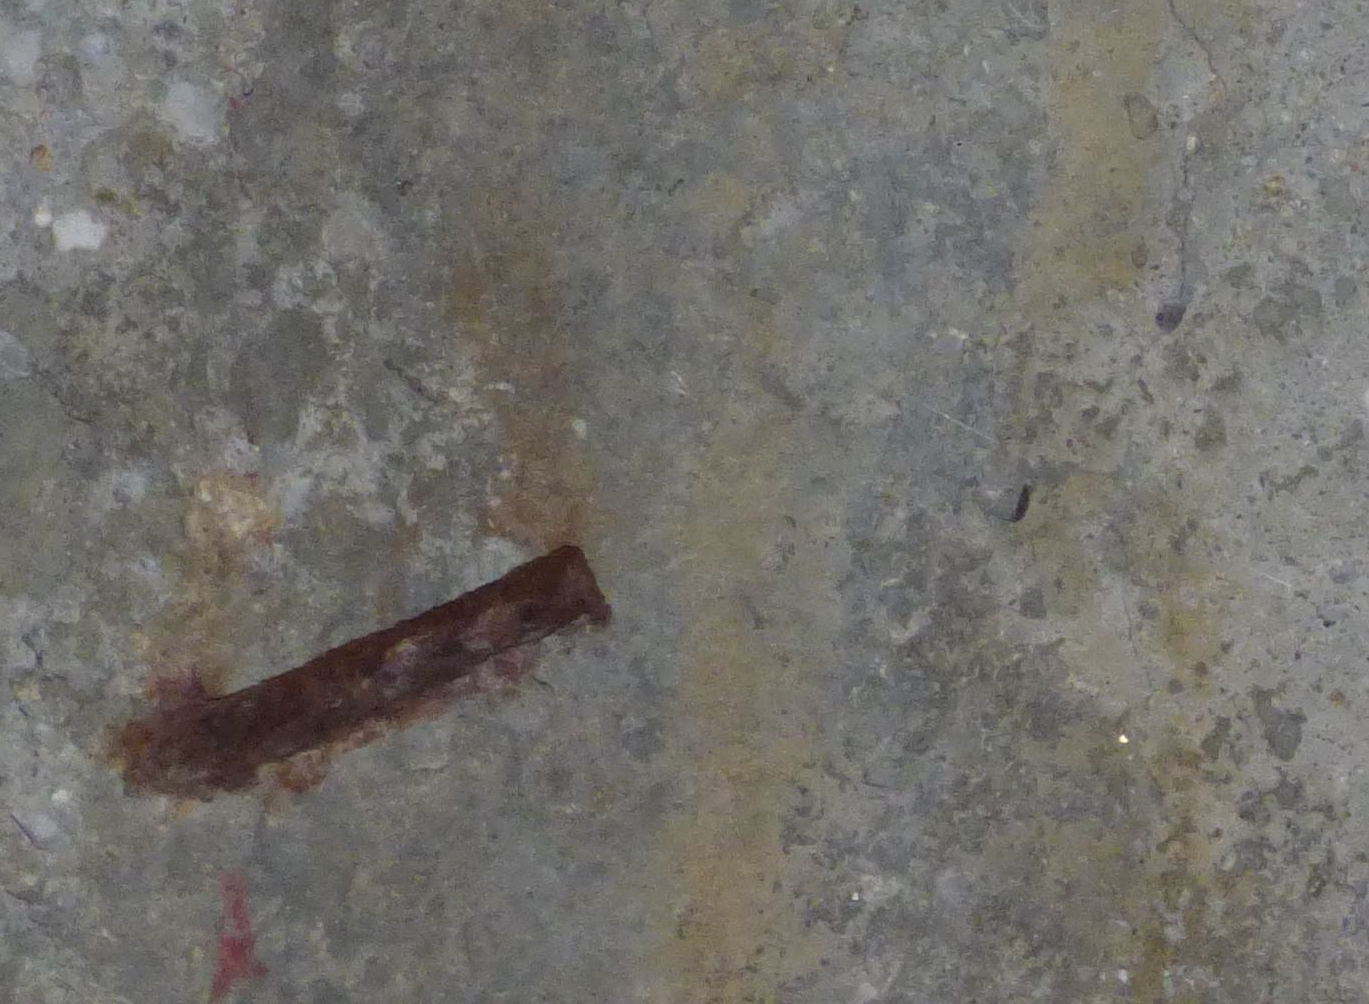Exposed reinforcement: (156, 543, 614, 785)
